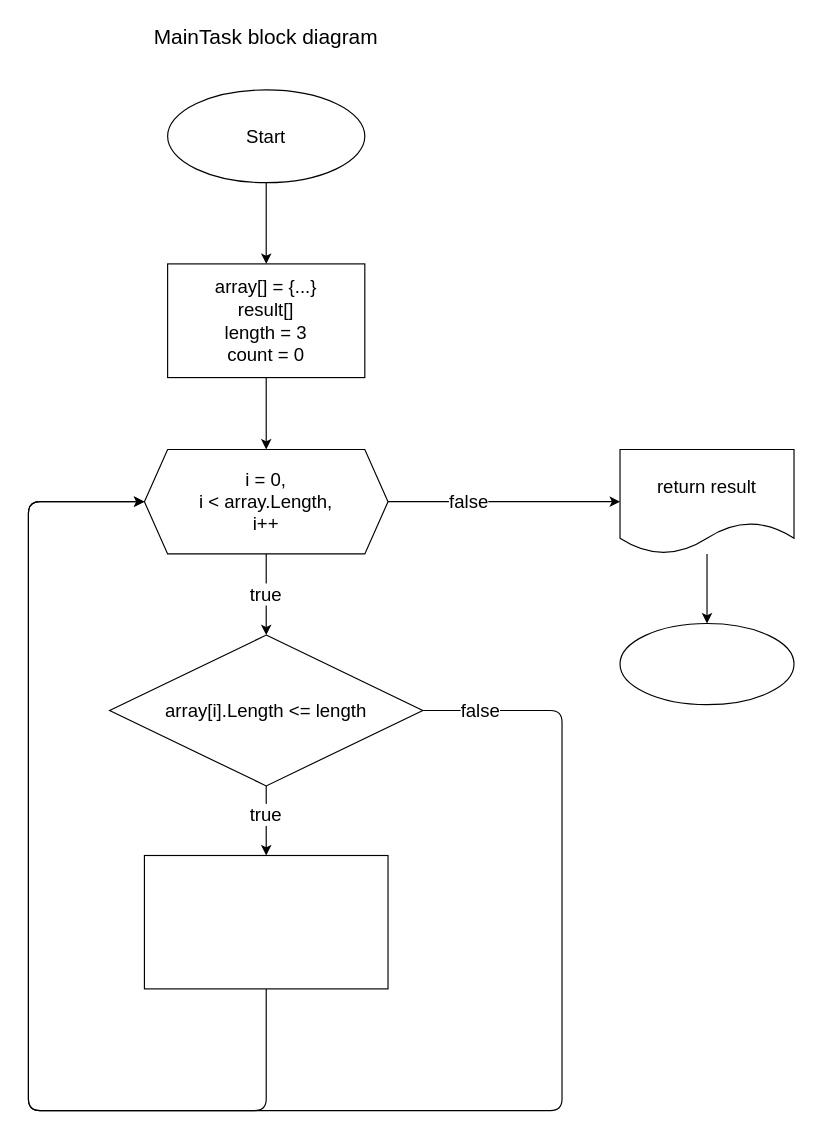
Image size: 814x1140. Some labels were removed from this diagram. The centre of each missing label's shape, as x and y in pixels:
end: pixel 706 663
result[count] = array[i] count++: pixel 265 921
